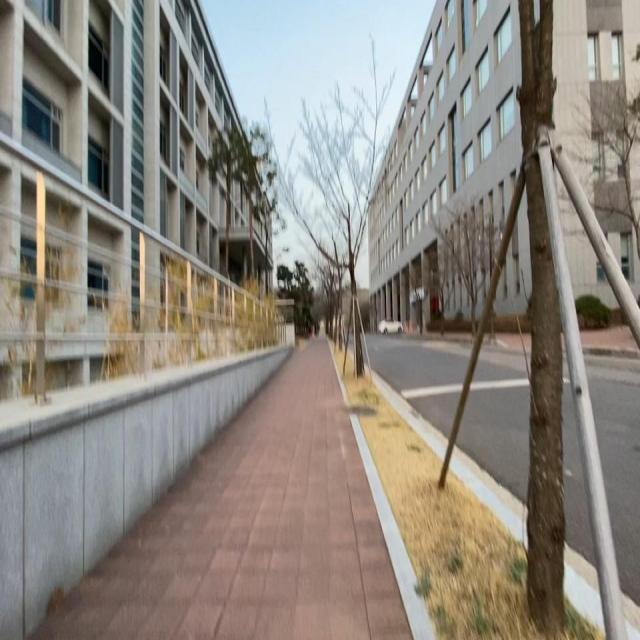sidewalk: (25, 336, 417, 640), (580, 325, 640, 355), (494, 333, 531, 353)
